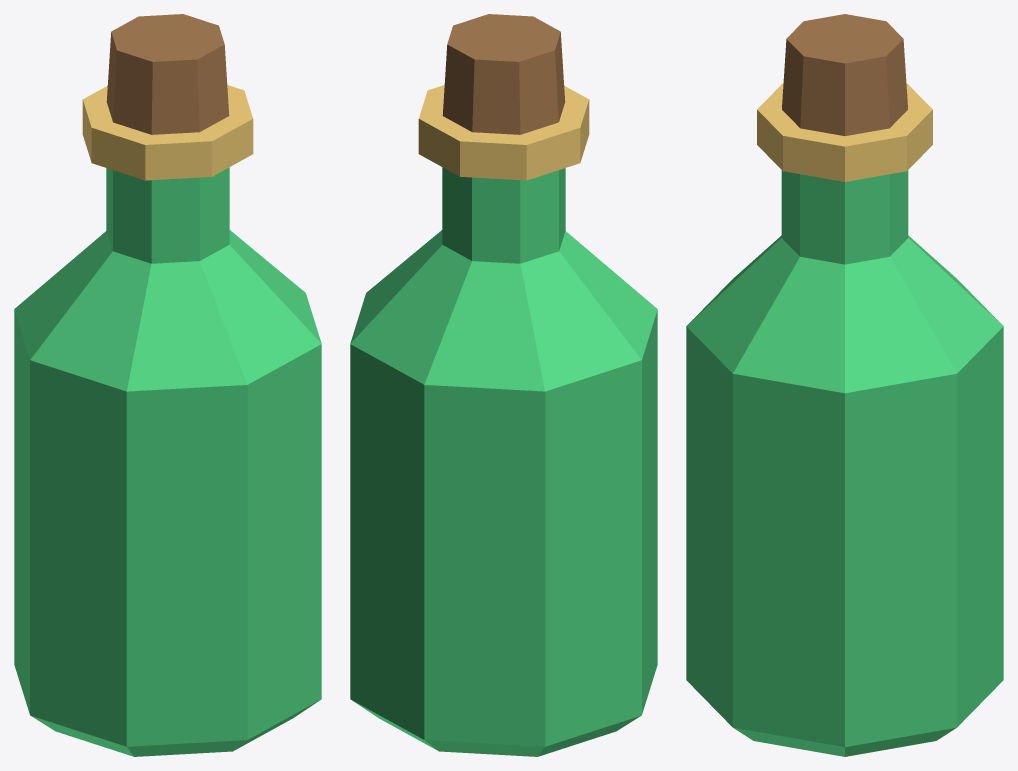
Rendered from potion_antidote.glb.
3 views of the same model, side by side, from view 1: azimuth 30°, elevation 25°; view 2: azimuth 150°, elevation 25°; view 3: azimuth 270°, elevation 25° (orthographic).
Visible parts, largest first — view 1: potion_antidote; view 2: potion_antidote; view 3: potion_antidote.
Boxes of the visible parts, x1=… form: potion_antidote: x1=14, y1=14, x2=321, y2=756; potion_antidote: x1=350, y1=14, x2=657, y2=756; potion_antidote: x1=686, y1=14, x2=1003, y2=756.
Size of the model in its own units: 0.13 by 0.3 by 0.13.
